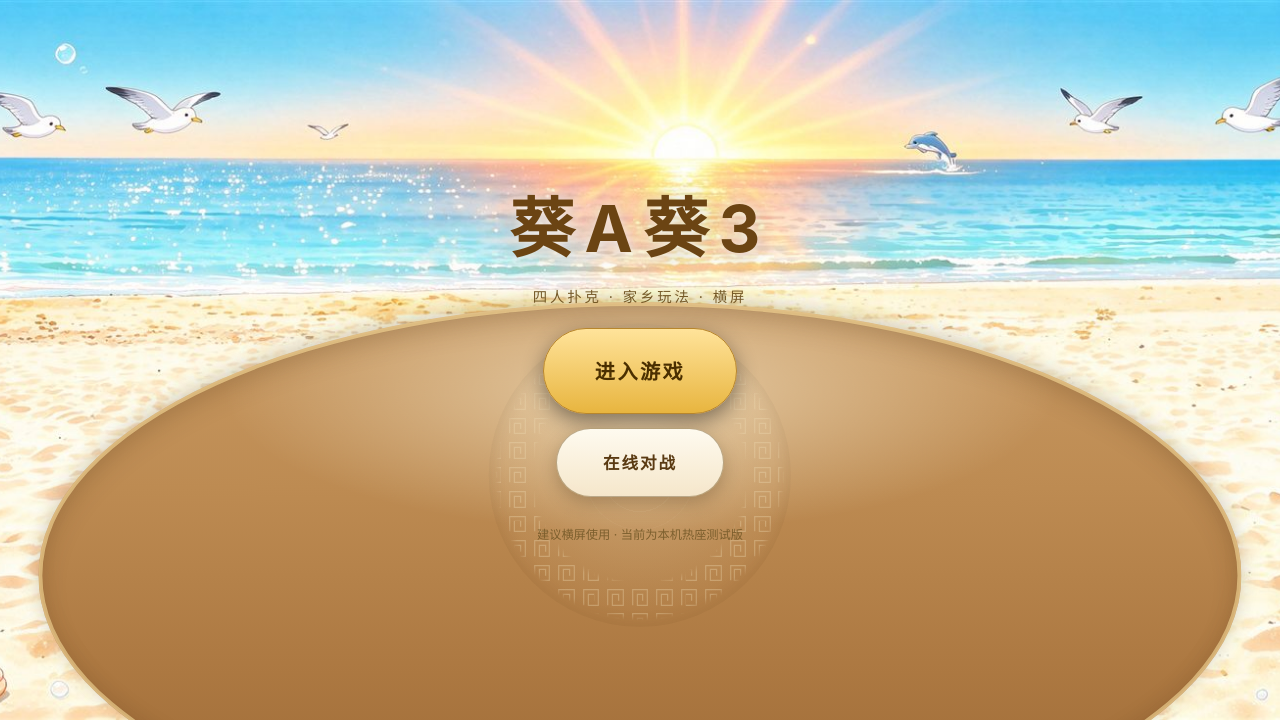
it: M2 横屏界面（jsdom） › 出牌阶段：手牌可点、「出牌」选中后可用、出完手牌 -1
The width and height of the screenshot is (1280, 720).
Later steps or results of the test are not shown.
Click the button "进入游戏" at (640, 371), box [543,328,737,414]
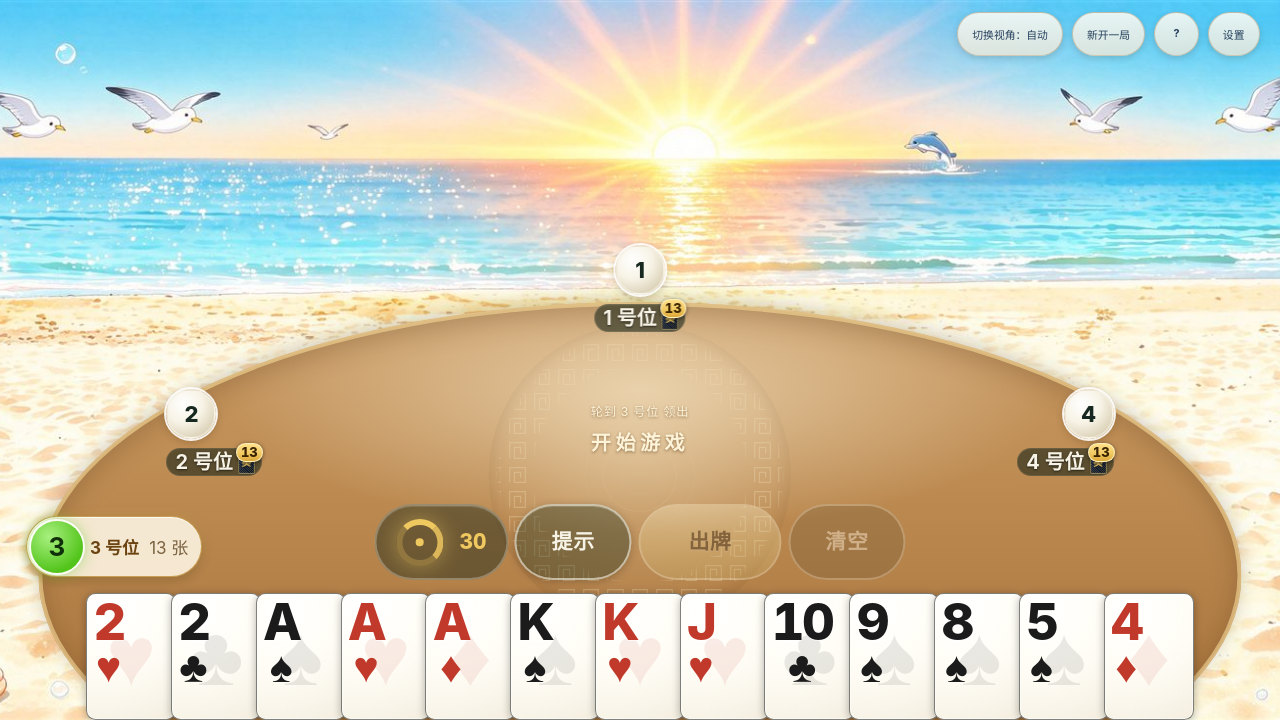
Expected: the button "出牌" is disabled, [638,504,782,580]
Click the 1st button "2" at (131, 656), box [86,593,176,719]
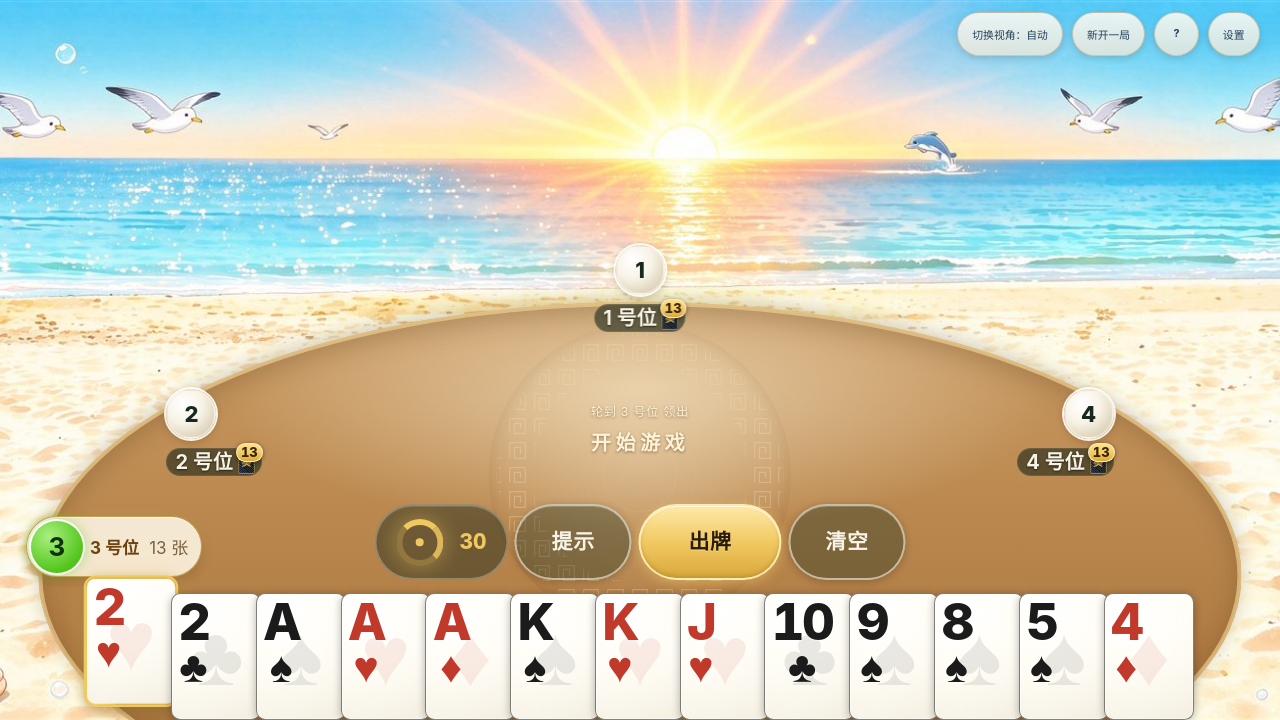
Expected: the button "出牌" is enabled, [638,504,782,580]
